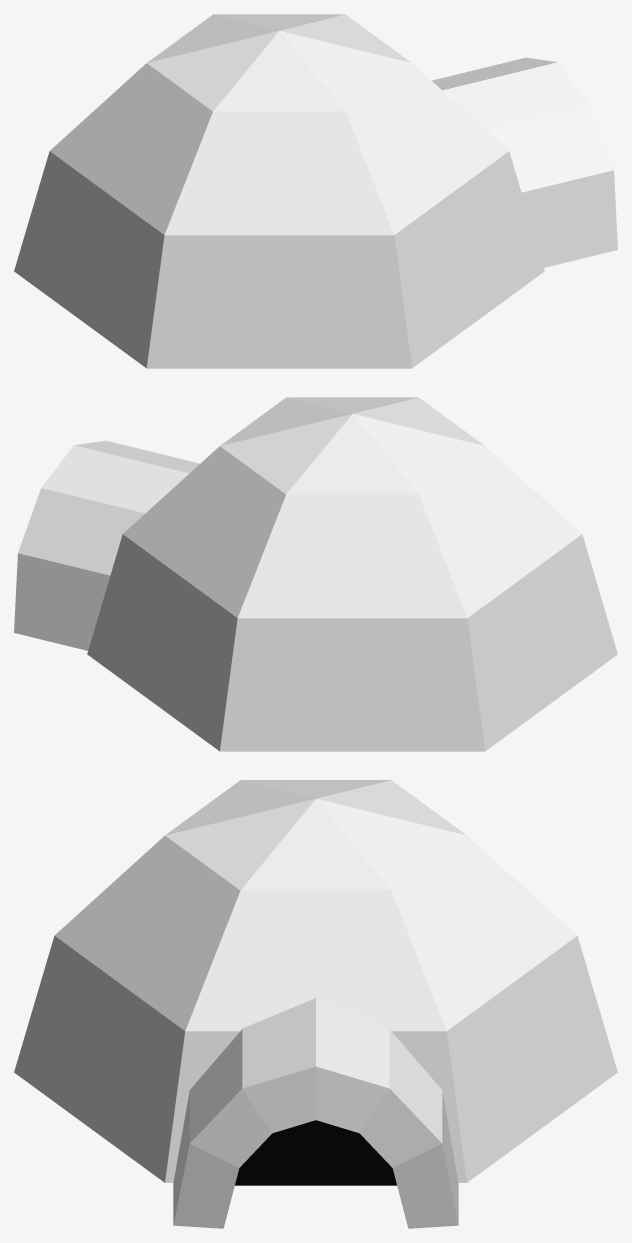
The model's file is Igloo.fbx.
3 renders of one model, top to bottom at view 1: azimuth 30°, elevation 25°; view 2: azimuth 150°, elevation 25°; view 3: azimuth 270°, elevation 25°, orthographic. The views are drawn at different scales.
Visible parts, largest first — view 1: Igloo; view 2: Igloo; view 3: Igloo.
Part boxes in pixels (<box>): Igloo: <box>14,14,617,368</box>; Igloo: <box>14,397,617,751</box>; Igloo: <box>14,780,617,1228</box>.
Size of the model in its own units: 0.5109 by 0.2457 by 0.4865.
